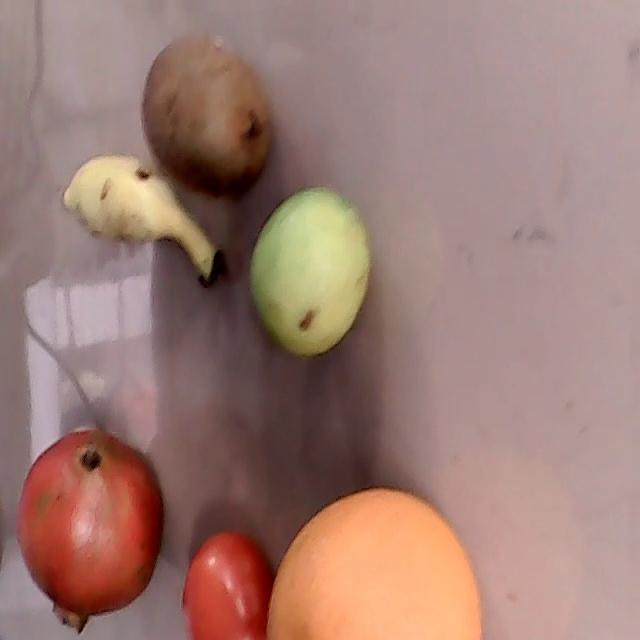kiwi: (140, 40, 273, 193)
lemon: (248, 185, 370, 356)
orange: (269, 487, 481, 640)
pomegranate: (16, 427, 164, 633)
tomato: (182, 531, 273, 639)
